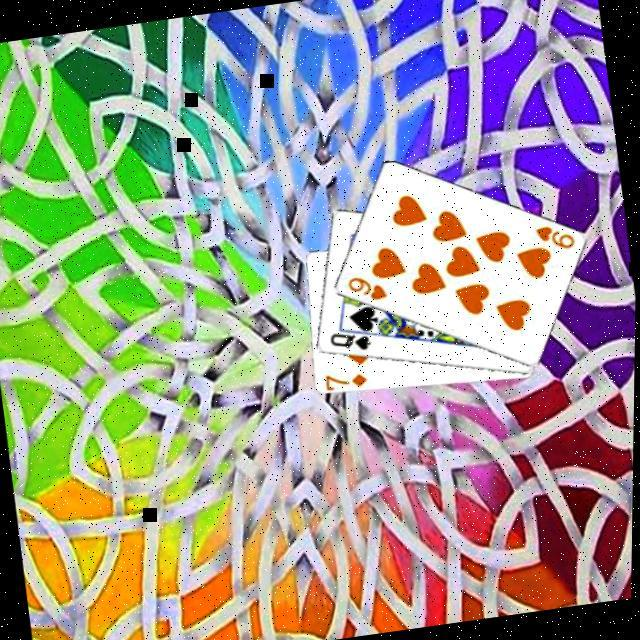7D: (321, 368, 372, 396)
9H: (342, 271, 390, 309), (530, 219, 578, 257)
QS: (325, 327, 374, 359)
